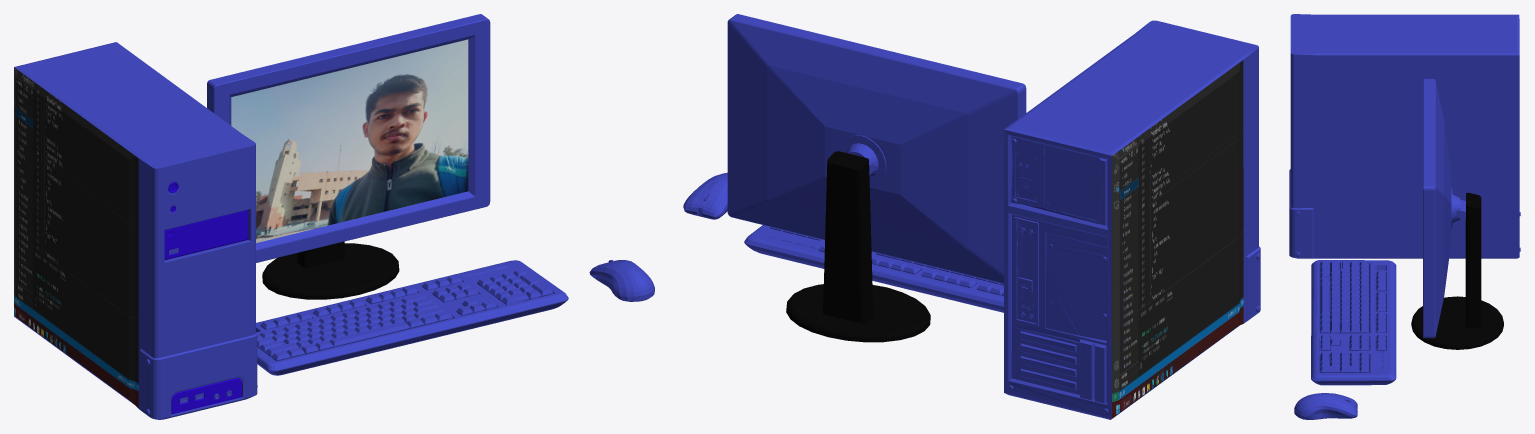
Rendered from Desktop Computer.gltf.
3 views of the same model, side by side, from view 1: azimuth 30°, elevation 25°; view 2: azimuth 150°, elevation 25°; view 3: azimuth 270°, elevation 25° (orthographic). The views are drawn at different scales.
Bounding box in the file's own units: 1.22 × 0.5775 × 0.5907.
